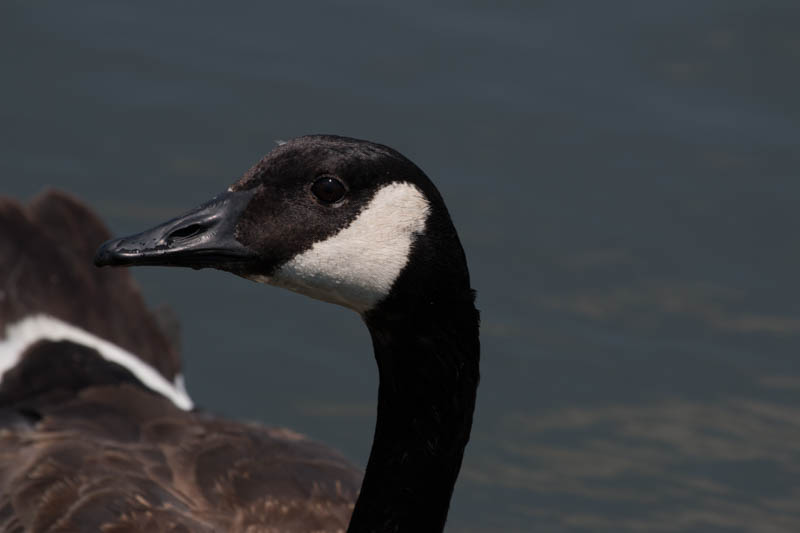goose-head: (91, 135, 470, 321)
